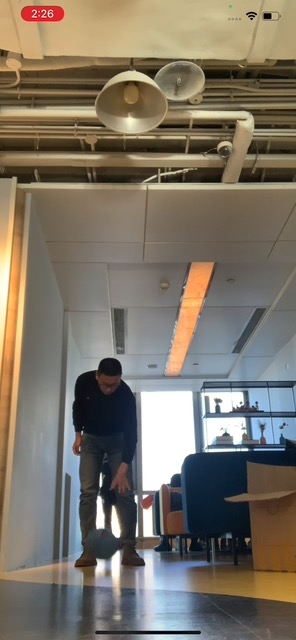ball: (85, 529, 120, 559)
